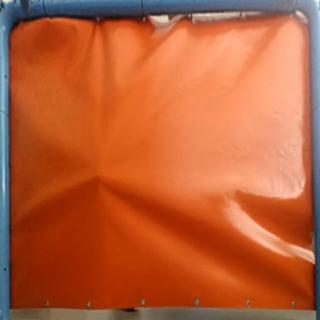Hit-hRxx: (92, 166, 109, 182)
